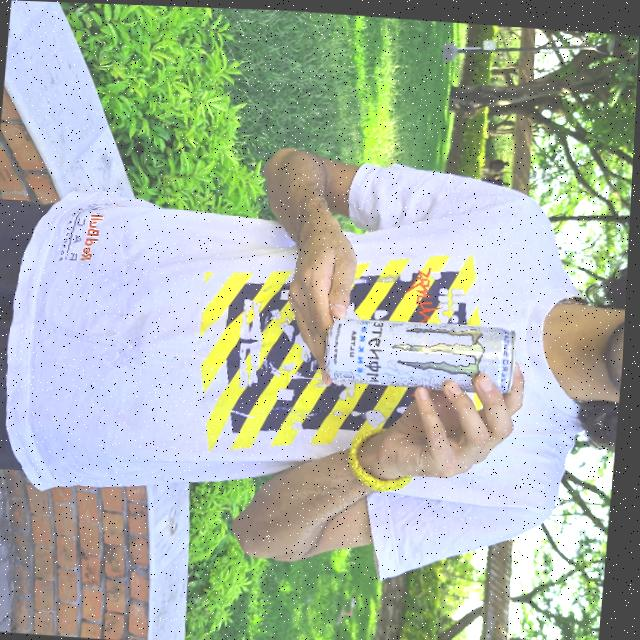White Monster: (325, 307, 526, 396)
